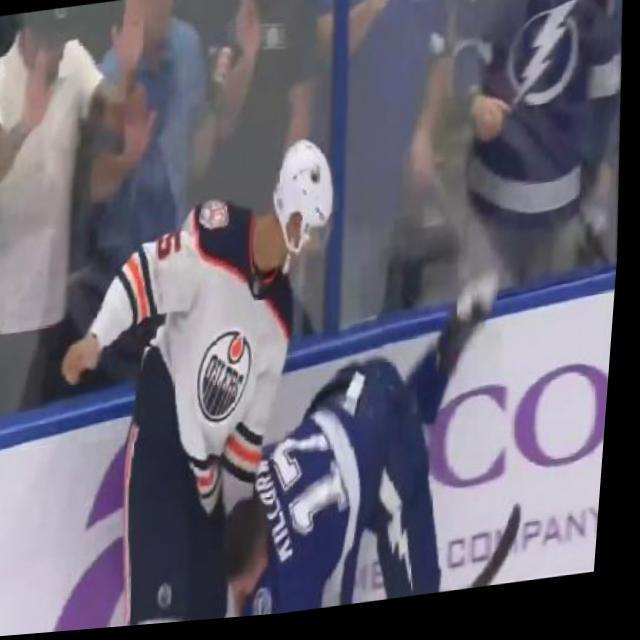fight: (53, 126, 481, 634)
